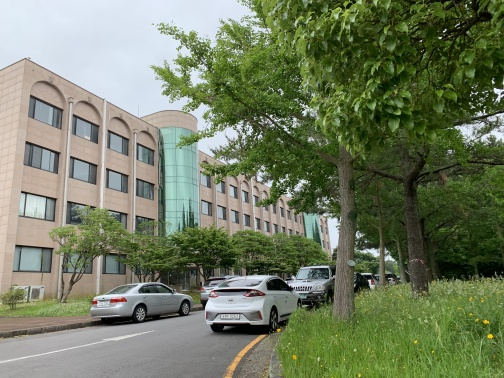Natural Science2: (13, 67, 328, 241), (3, 58, 205, 302)
